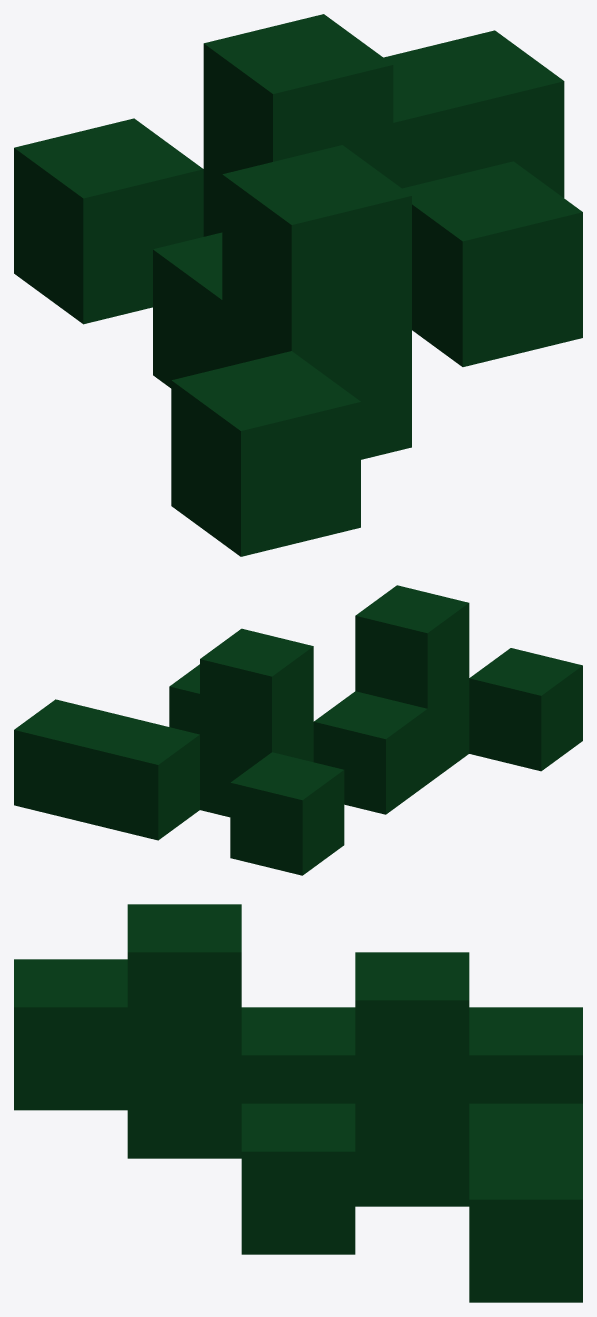
File: GrassPiece11.fbx
3 views of the same model, one above another, from view 1: azimuth 30°, elevation 25°; view 2: azimuth 150°, elevation 25°; view 3: azimuth 270°, elevation 25° (orthographic). The views are drawn at different scales.
Parts seen in each view (by area): view 1: Matrix_Piece1_0_1_Piece0_0_0; view 2: Matrix_Piece1_0_1_Piece0_0_0; view 3: Matrix_Piece1_0_1_Piece0_0_0.
Part boxes in pixels (x1,y1,x2,y2): Matrix_Piece1_0_1_Piece0_0_0: [14, 14, 582, 556]; Matrix_Piece1_0_1_Piece0_0_0: [14, 585, 582, 875]; Matrix_Piece1_0_1_Piece0_0_0: [14, 904, 582, 1302].
Size of the model in its own units: 5 by 2 by 5.
Materials: 1 (1 with a texture image).
